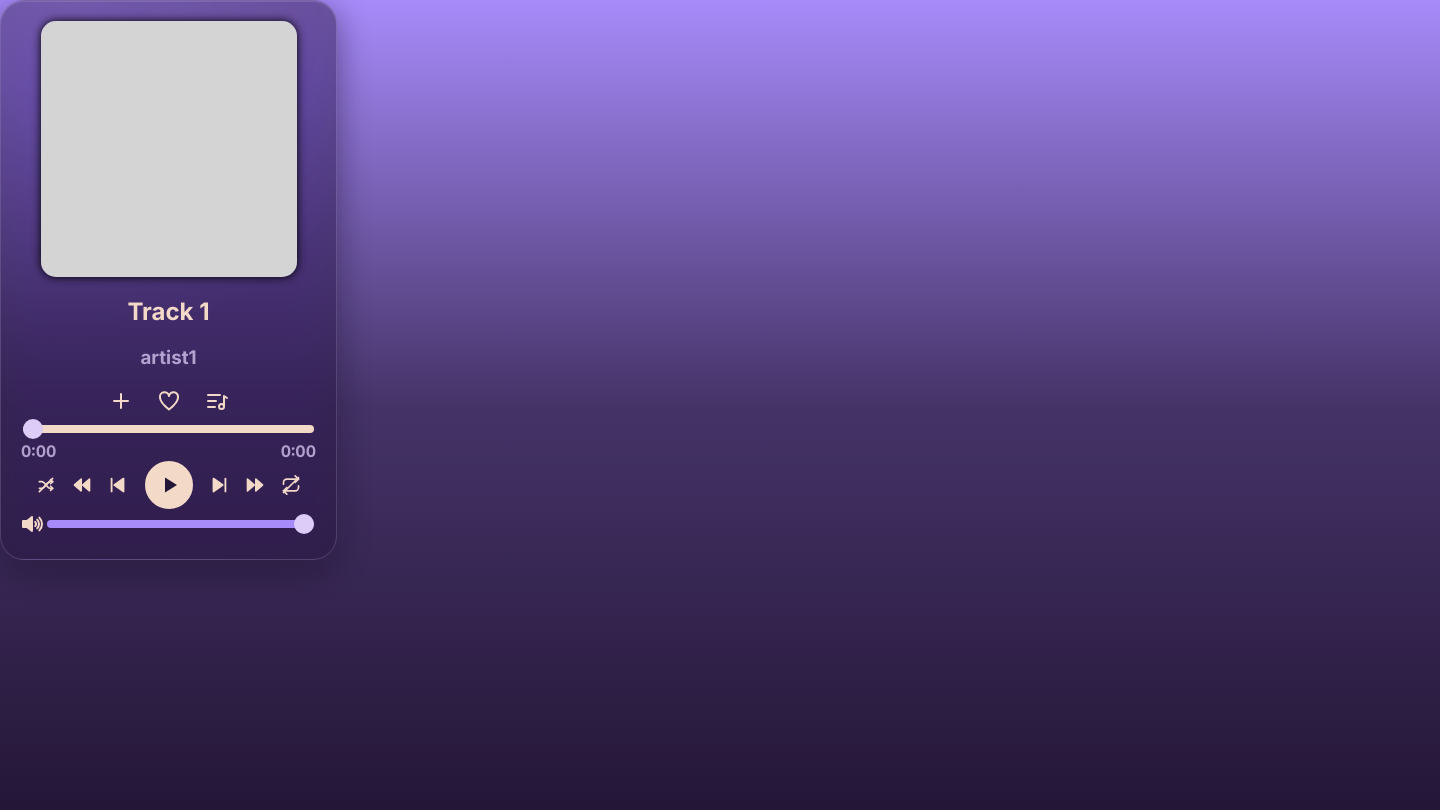
AudioPlayer › repeat › cycles off → one → all → off
Click the button named "Repeat off". click: (291, 486)
box: [281,460,301,512]
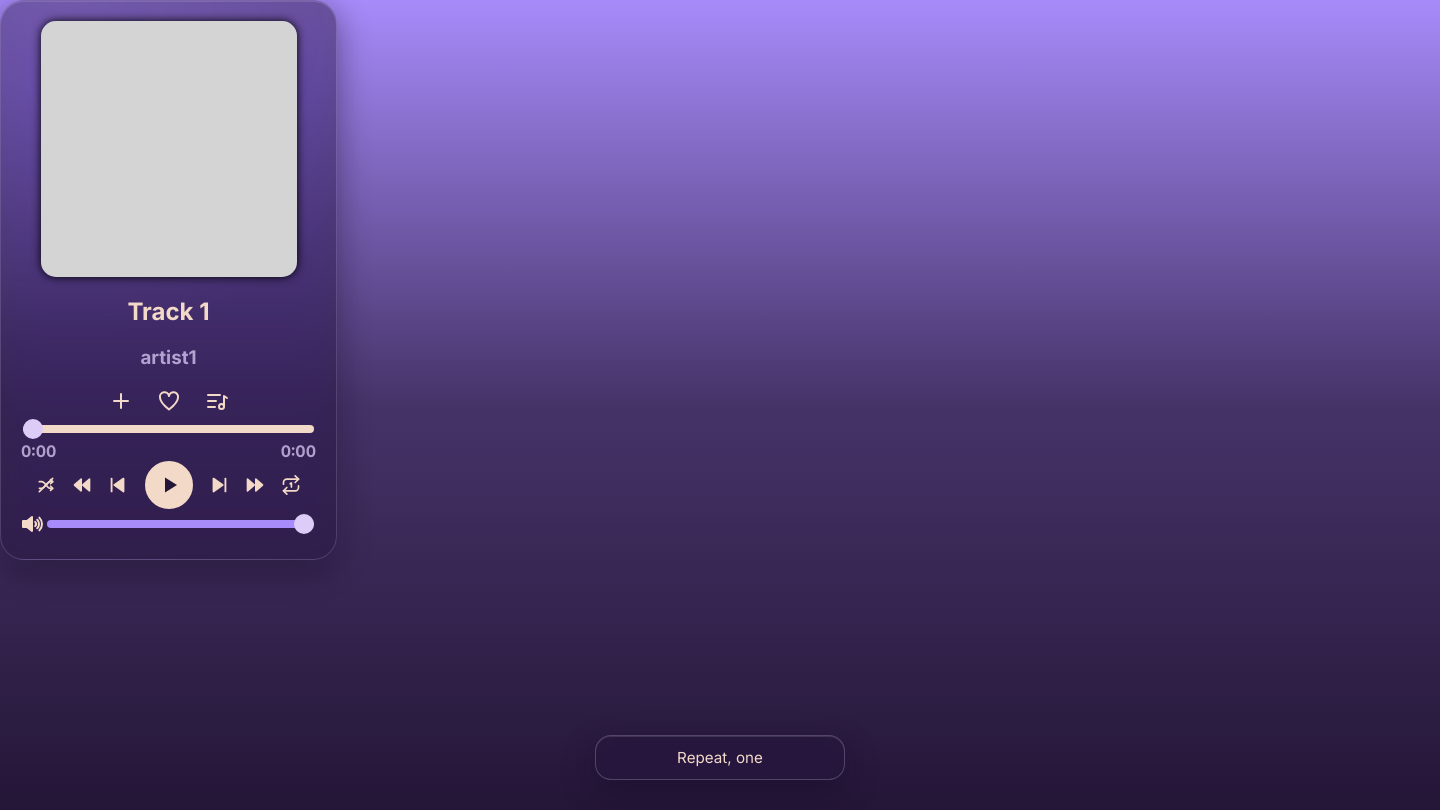
Check: the text with id "snackbar" reads "Repeat, one", box [677,748,763,767]
Click the button named "Repeat one". click: (291, 486)
box: [281,460,301,512]
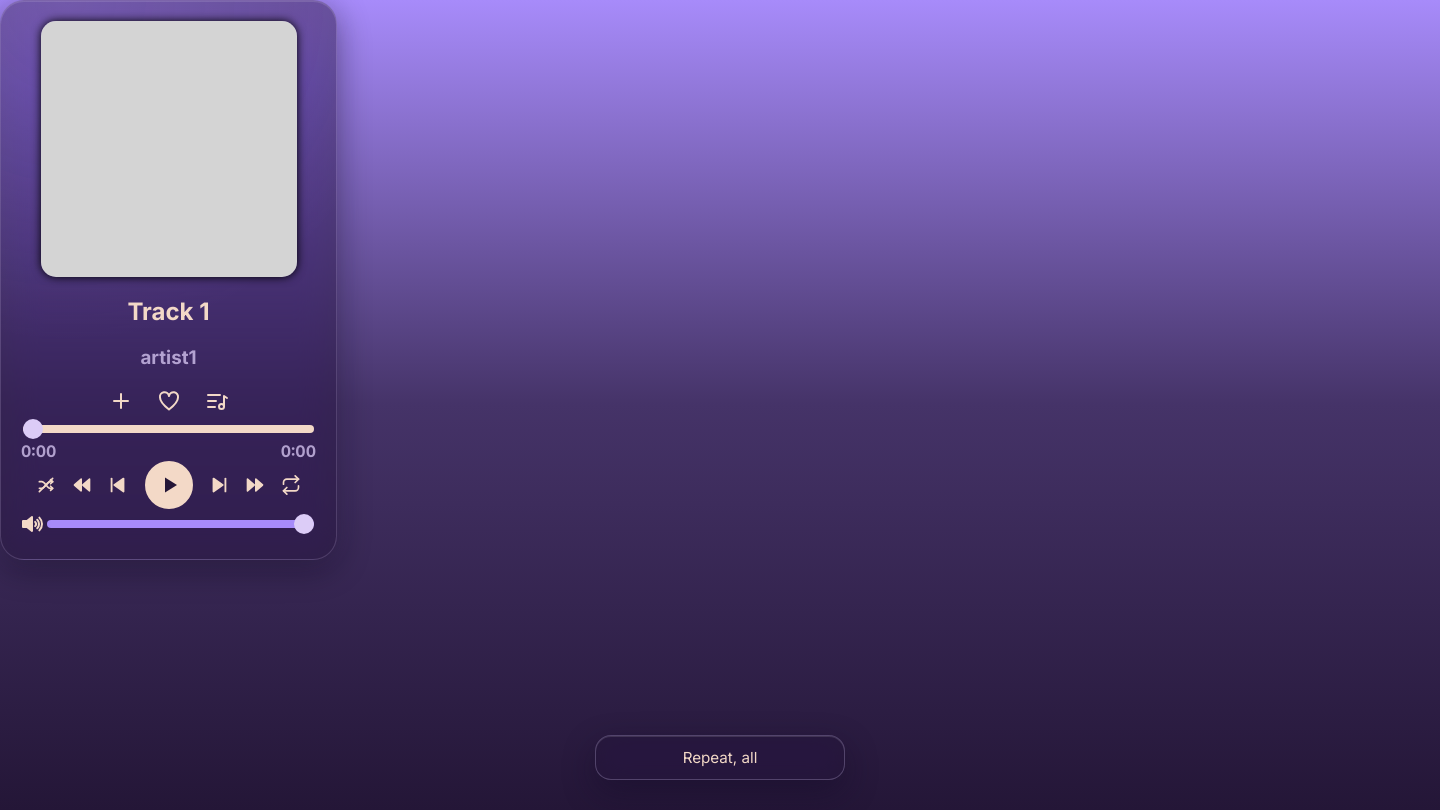
Check: the text with id "snackbar" reads "Repeat, all", box [683,748,757,767]
Click the button named "Repeat all". click: (291, 486)
box: [281,460,301,512]
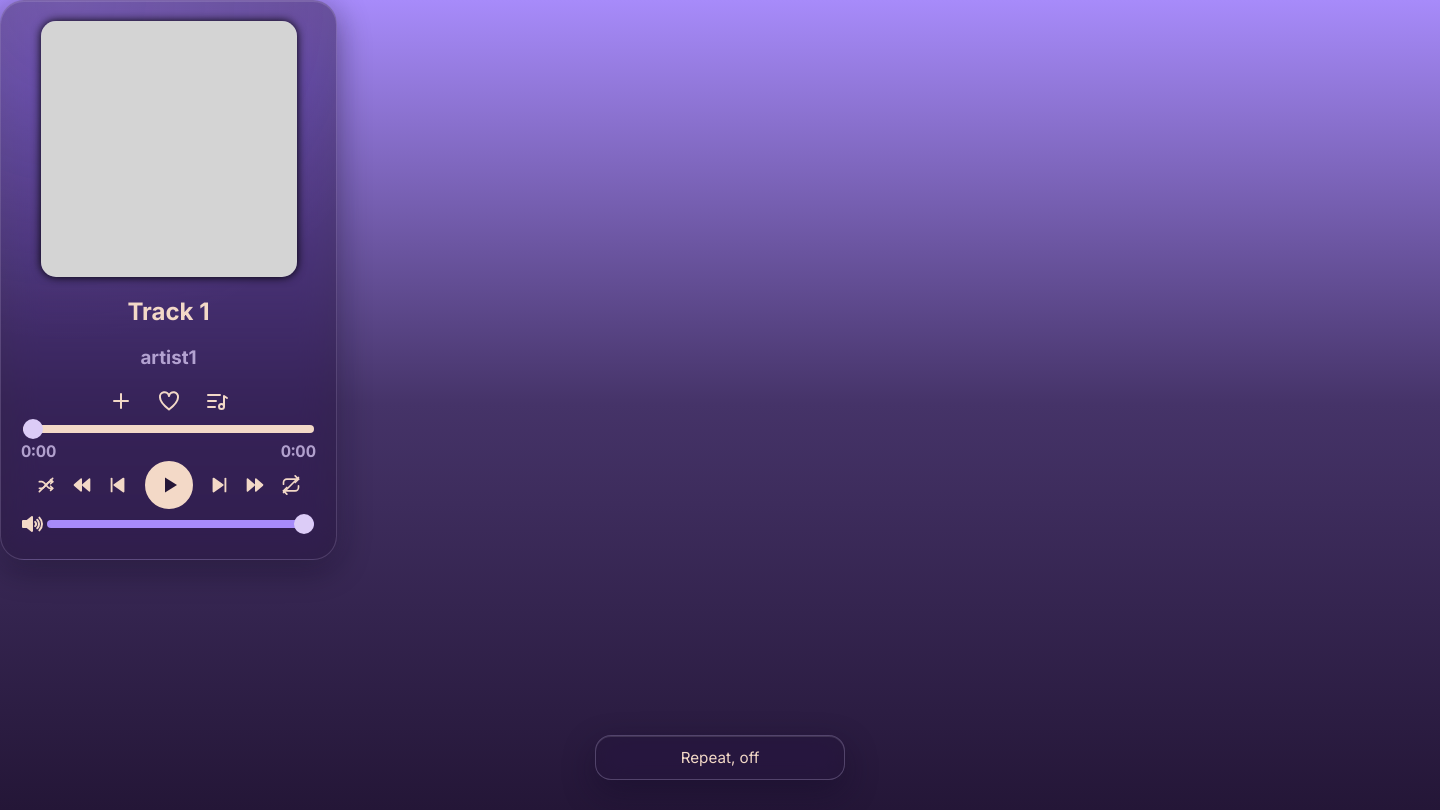
Check: the number of buttons named "Repeat off" is 1, box [281,460,301,512]
Check: the text with id "snackbar" reads "Repeat, off", box [681,748,759,767]
